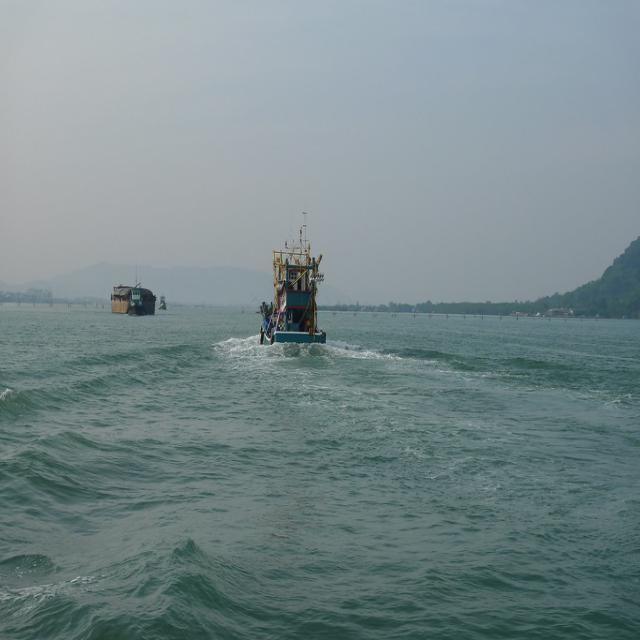fishing boat: (256, 241, 325, 349), (120, 275, 146, 323)
